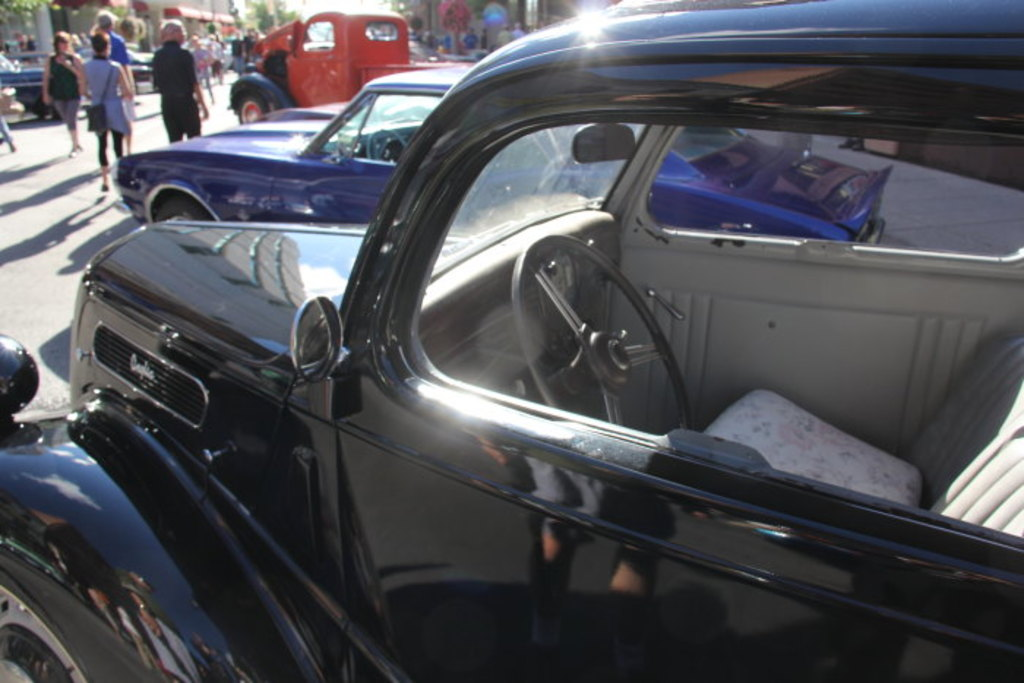Car: (68, 0, 1022, 681), (111, 65, 896, 247), (228, 8, 472, 124), (4, 48, 153, 93), (0, 52, 62, 127), (74, 48, 157, 87)
